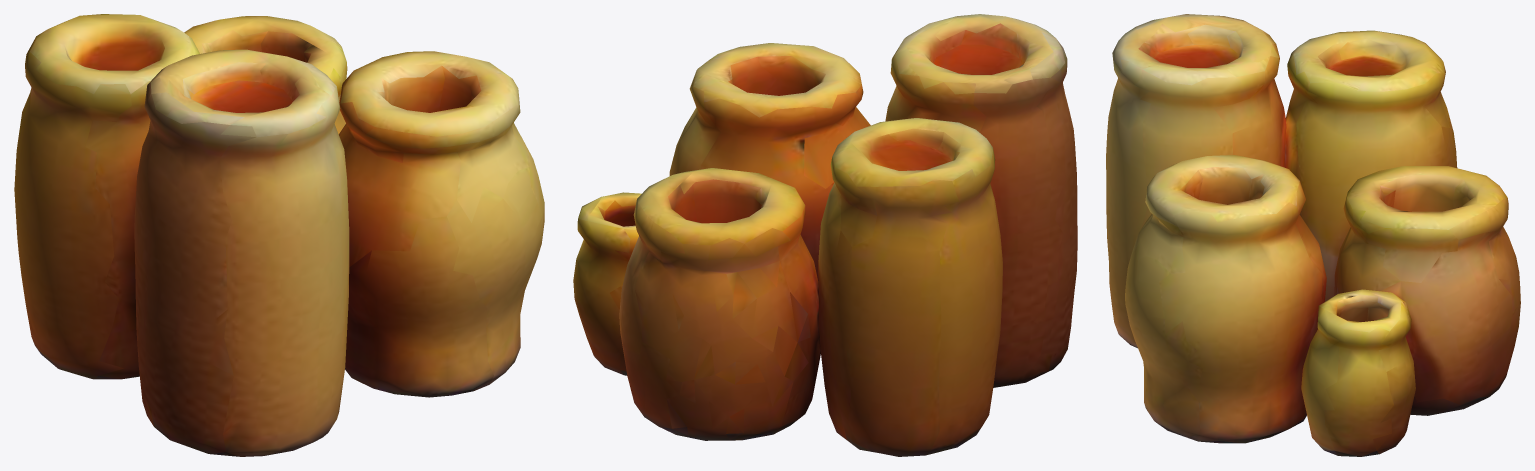
3 views of the same model, side by side, from view 1: azimuth 30°, elevation 25°; view 2: azimuth 150°, elevation 25°; view 3: azimuth 270°, elevation 25° (orthographic). The views are drawn at different scales.
Parts seen in each view (by area): view 1: low; view 2: low; view 3: low.
Boxes of the visible parts, <box> form: low: <box>14,14,544,456</box>; low: <box>573,14,1077,456</box>; low: <box>1106,14,1520,456</box>.
Bounding box in the file's own units: 2.77 × 2 × 2.62.
1 material, 1 textured.
